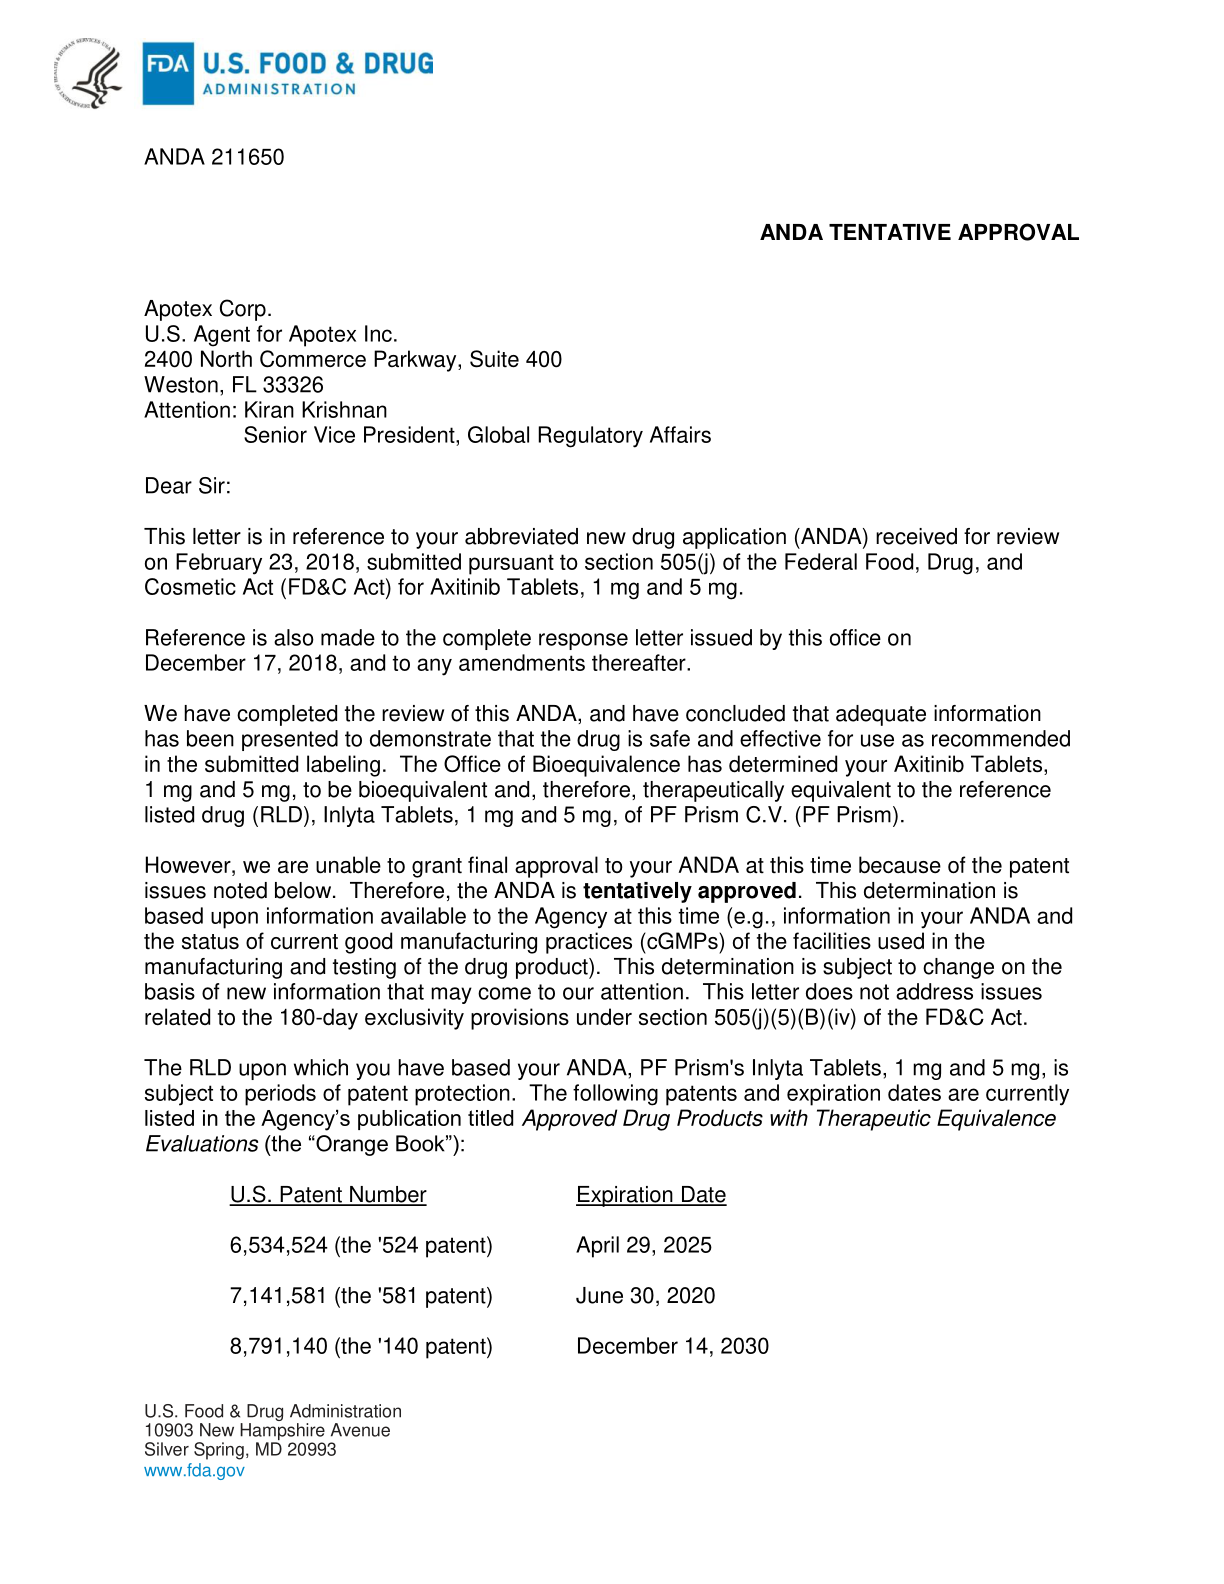nolines: (228, 1180, 771, 1360)
